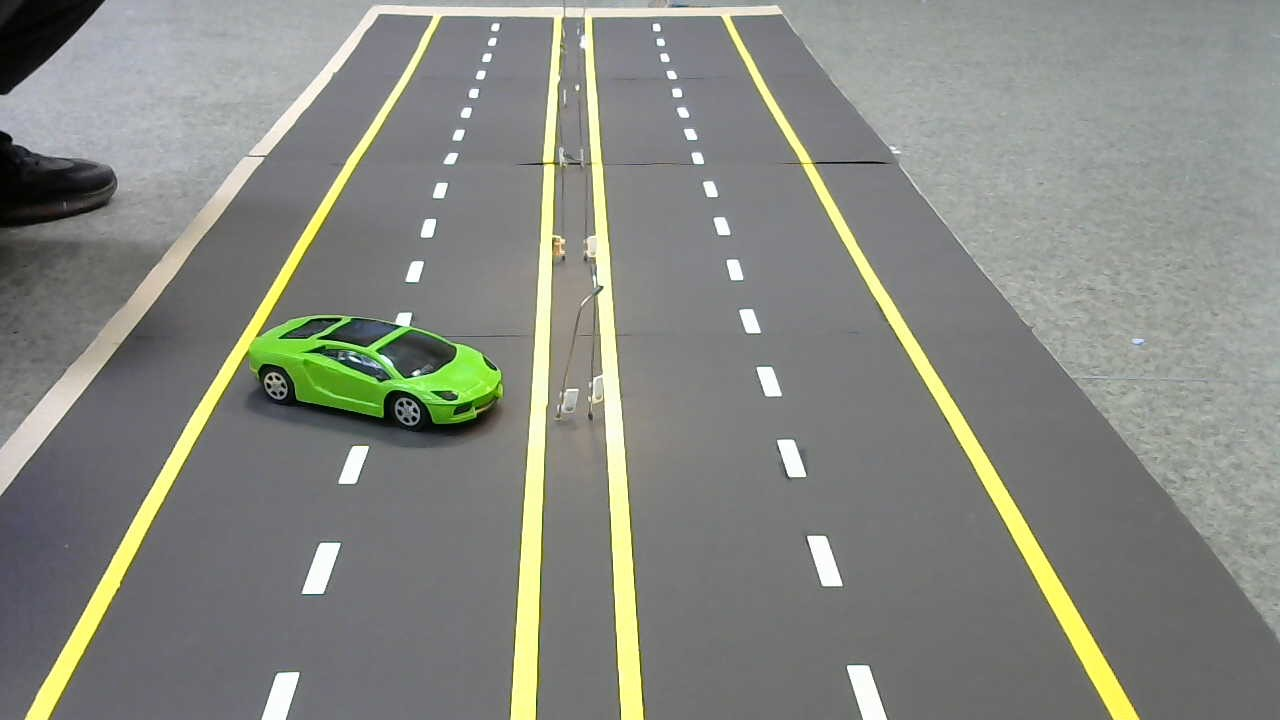overturn_car: (246, 307, 508, 445)
